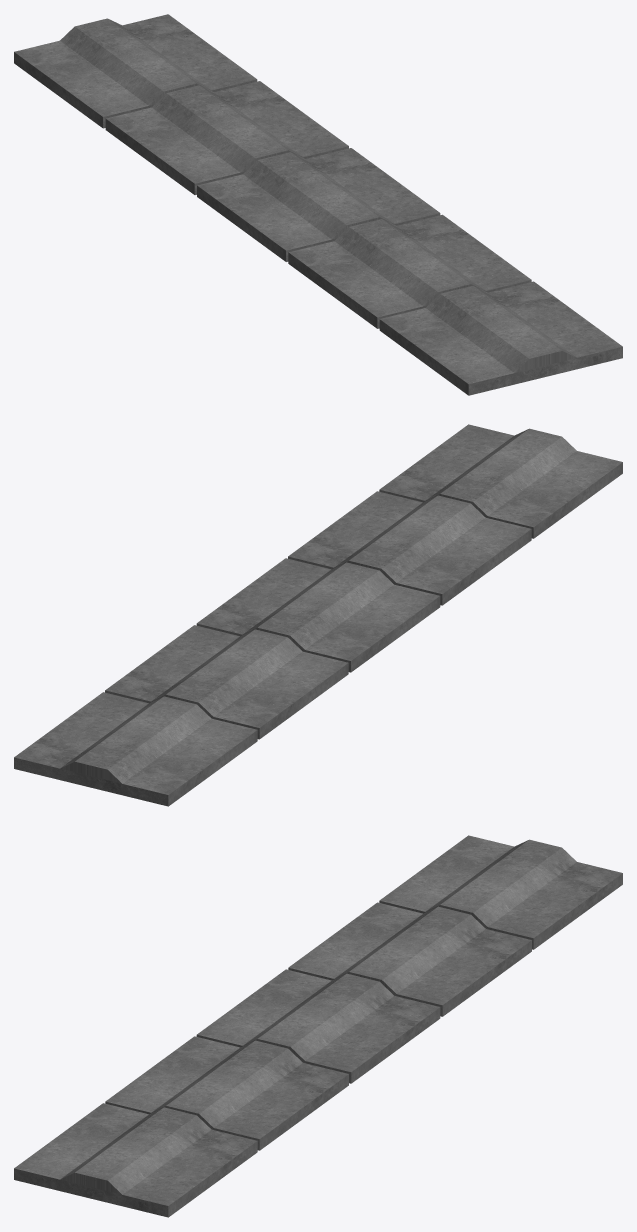
File: track.fbx
3 renders of one model, top to bottom at view 1: azimuth 30°, elevation 25°; view 2: azimuth 150°, elevation 25°; view 3: azimuth 330°, elevation 25°, orthographic.
Visible parts, largest first — view 1: pasted__pCube37, pasted__pCube81, pasted__pCube83, pasted__pCube82, pasted__pCube80; view 2: pasted__pCube83, pasted__pCube81, pasted__pCube80, pasted__pCube82, pasted__pCube37; view 3: pasted__pCube37, pasted__pCube81, pasted__pCube82, pasted__pCube83, pasted__pCube80.
Part boxes in pixels (x1,y1,x2,y2): pasted__pCube37: [379, 281, 622, 395]; pasted__pCube81: [197, 148, 440, 261]; pasted__pCube83: [14, 14, 257, 128]; pasted__pCube82: [105, 81, 348, 194]; pasted__pCube80: [288, 214, 531, 328]; pasted__pCube83: [14, 692, 257, 806]; pasted__pCube81: [196, 558, 440, 672]; pasted__pCube80: [288, 491, 531, 605]; pasted__pCube82: [105, 625, 348, 739]; pasted__pCube37: [379, 424, 622, 538]; pasted__pCube37: [14, 1103, 257, 1217]; pasted__pCube81: [196, 969, 440, 1083]; pasted__pCube82: [288, 902, 531, 1016]; pasted__pCube83: [379, 835, 622, 949]; pasted__pCube80: [105, 1036, 348, 1150].
Size of the model in its own units: 139 by 18.9 by 705.
1 material, 1 textured.
